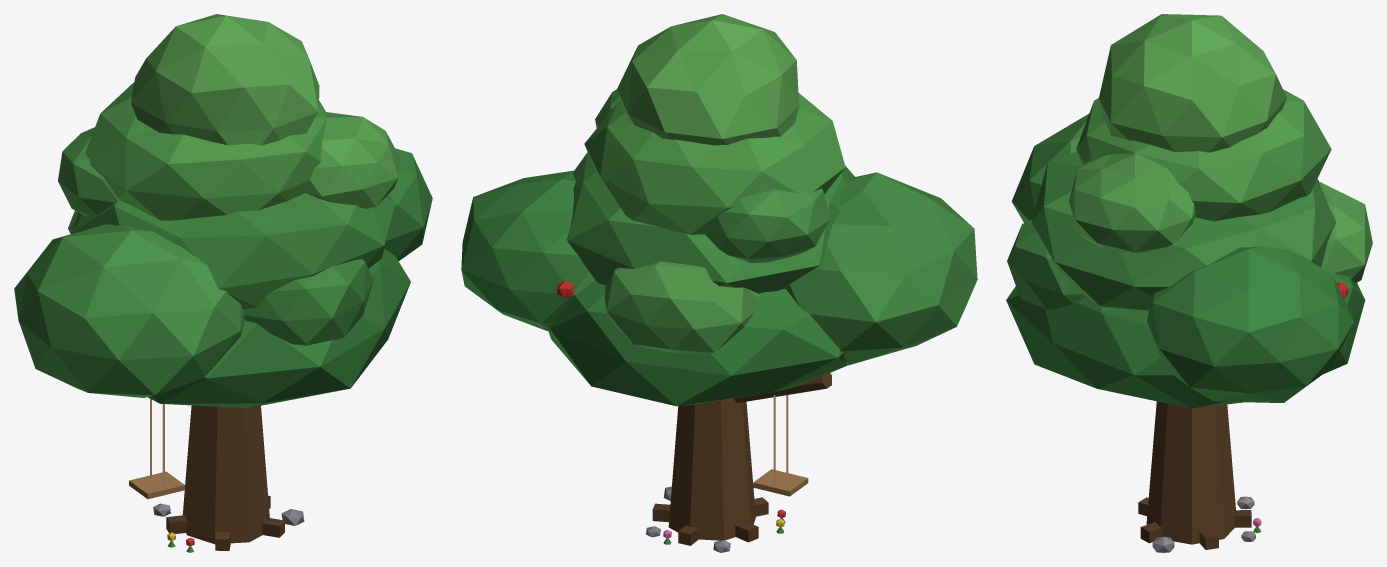
Rendered from Decor_LittleHouse_Tree.fbx.
3 renders of one model, left to right at view 1: azimuth 30°, elevation 25°; view 2: azimuth 150°, elevation 25°; view 3: azimuth 270°, elevation 25°, orthographic.
Parts seen in each view (by area): view 1: Tree_Canopy, Tree_Trunk, Tree_Swing; view 2: Tree_Canopy, Tree_Trunk, Tree_Swing; view 3: Tree_Canopy, Tree_Trunk.
Boxes of the visible parts, bbox=[...] form: Tree_Canopy: bbox=[14, 14, 432, 408]; Tree_Trunk: bbox=[153, 405, 304, 552]; Tree_Swing: bbox=[129, 399, 184, 499]; Tree_Canopy: bbox=[461, 14, 977, 406]; Tree_Trunk: bbox=[646, 373, 831, 552]; Tree_Swing: bbox=[753, 395, 808, 496]; Tree_Canopy: bbox=[1006, 14, 1372, 408]; Tree_Trunk: bbox=[1138, 401, 1261, 552].
Bounding box in the file's own units: 35.43 × 39.44 × 25.83.
